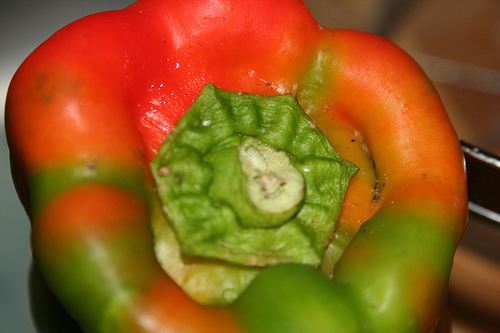capsicum: (3, 0, 471, 330)
